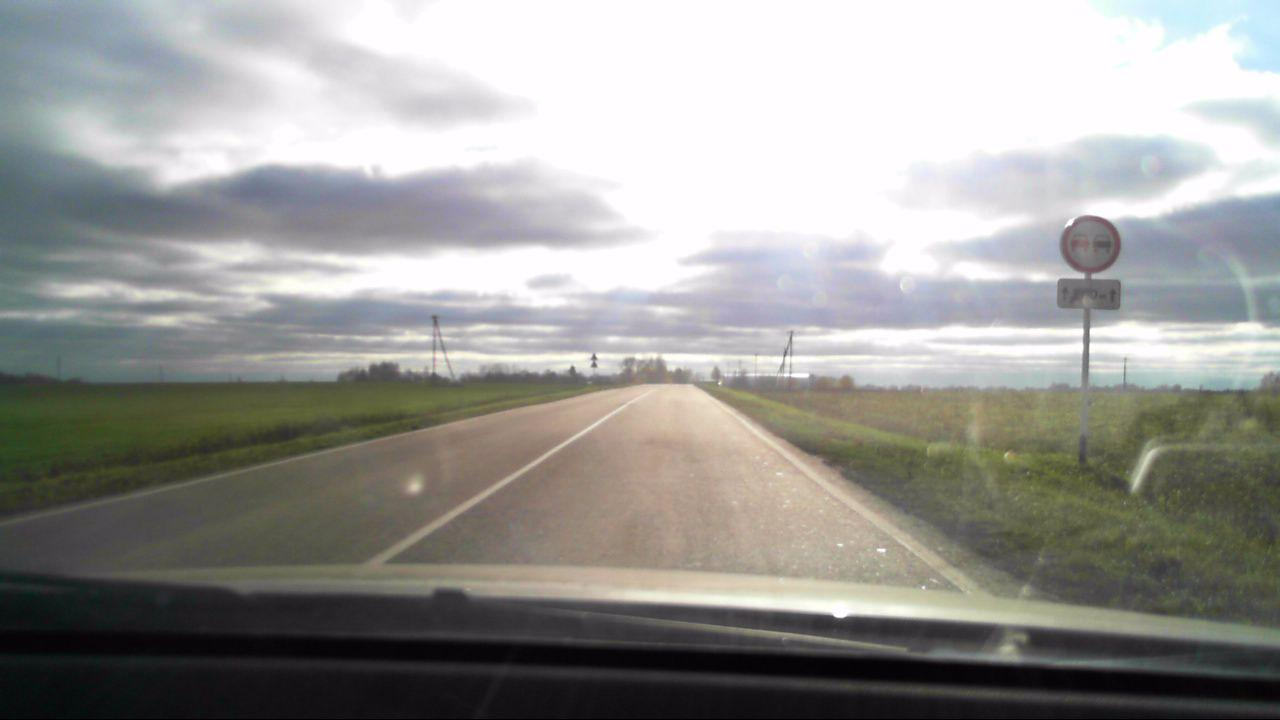3_20: (1059, 216, 1120, 273)
8_2_1: (1054, 277, 1124, 309)
